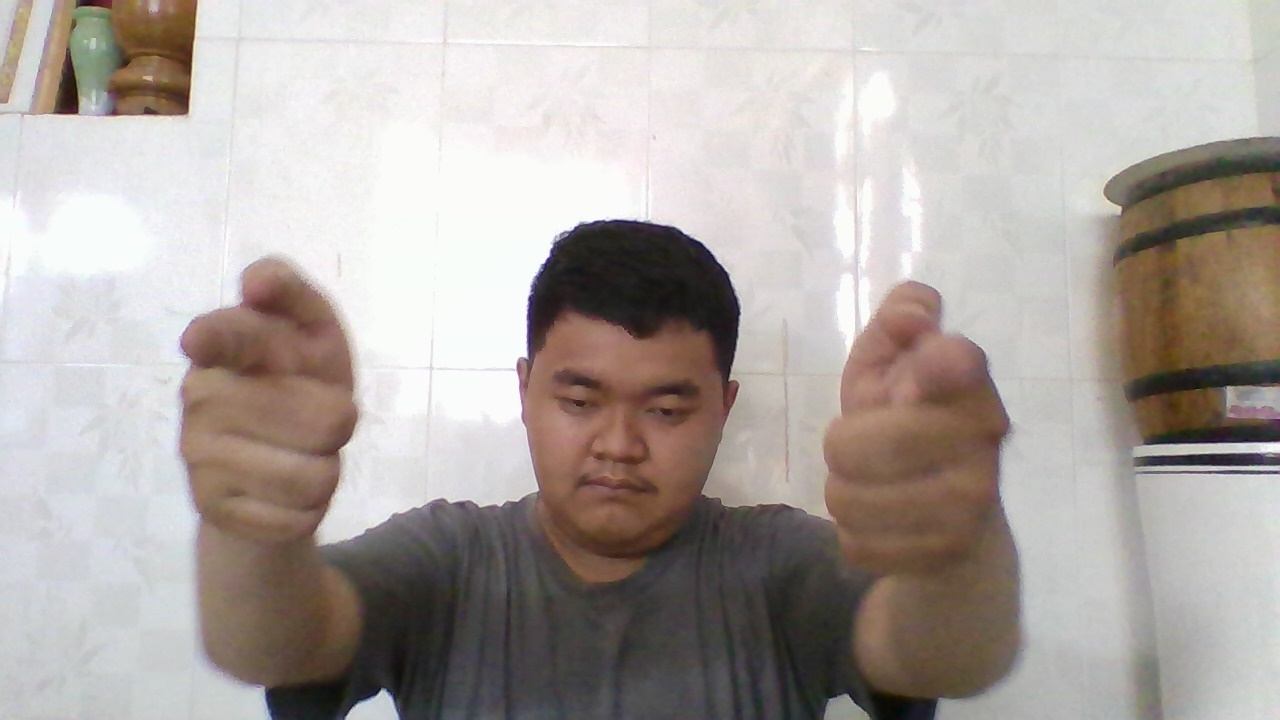G: (827, 281, 1005, 564), (180, 261, 341, 533)
